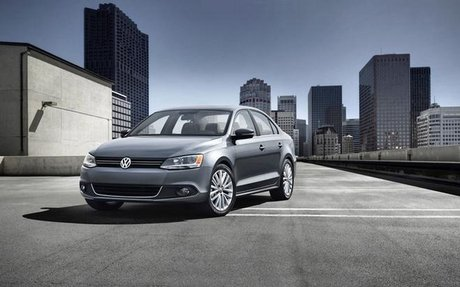car: (78, 105, 296, 217)
